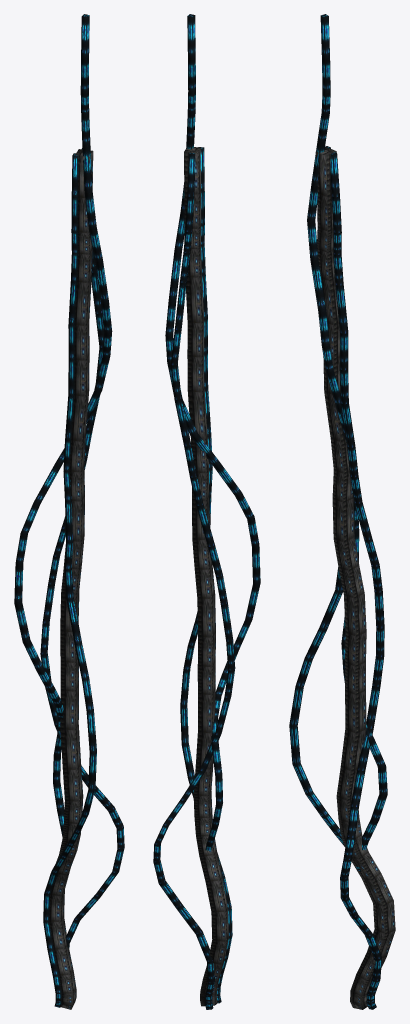
The model's file is S_Build_Desert042.FBX.
3 renders of one model, left to right at view 1: azimuth 30°, elevation 25°; view 2: azimuth 210°, elevation 25°; view 3: azimuth 270°, elevation 25°, orthographic. The views are drawn at different scales.
Parts seen in each view (by area): view 1: S_Build_Desert042; view 2: S_Build_Desert042; view 3: S_Build_Desert042.
Boxes of the visible parts, x1,y1,x2,y2 form: S_Build_Desert042: (14,14,124,1009); S_Build_Desert042: (153,14,260,1009); S_Build_Desert042: (289,14,395,1009).
Bounding box in the file's own units: 286 × 2601 × 253.
